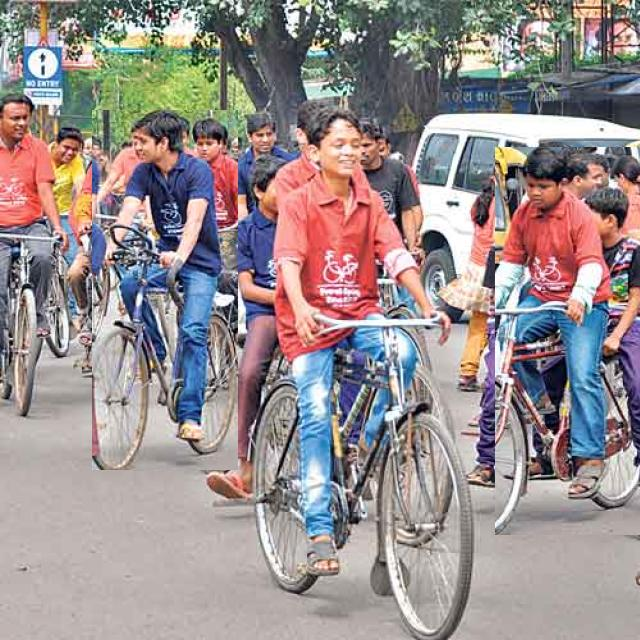bicycle: (254, 111, 471, 639), (495, 147, 640, 535), (92, 111, 238, 470), (0, 92, 66, 414)
car: (412, 114, 640, 304)
